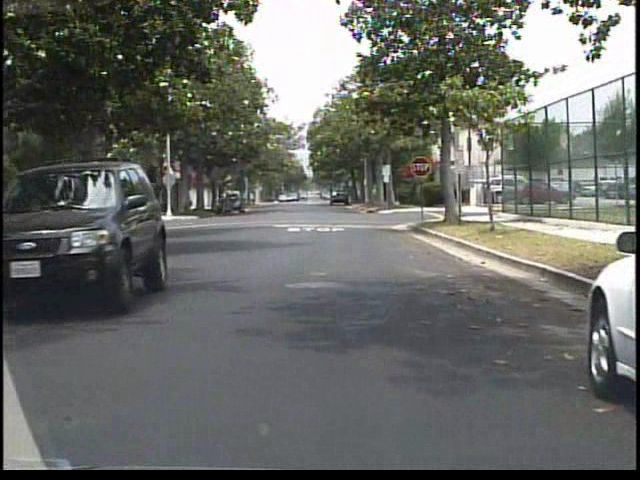person: (220, 179, 242, 221)
